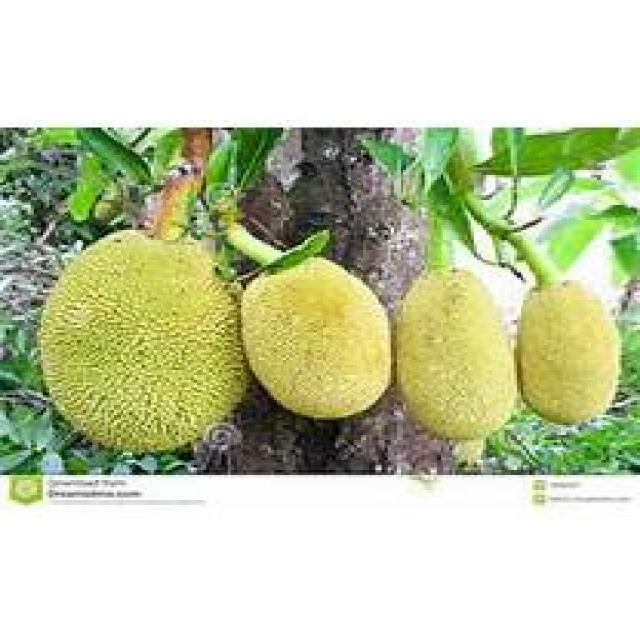Fruit: (28, 220, 258, 470), (231, 245, 403, 437), (378, 248, 532, 462), (498, 255, 640, 450)
